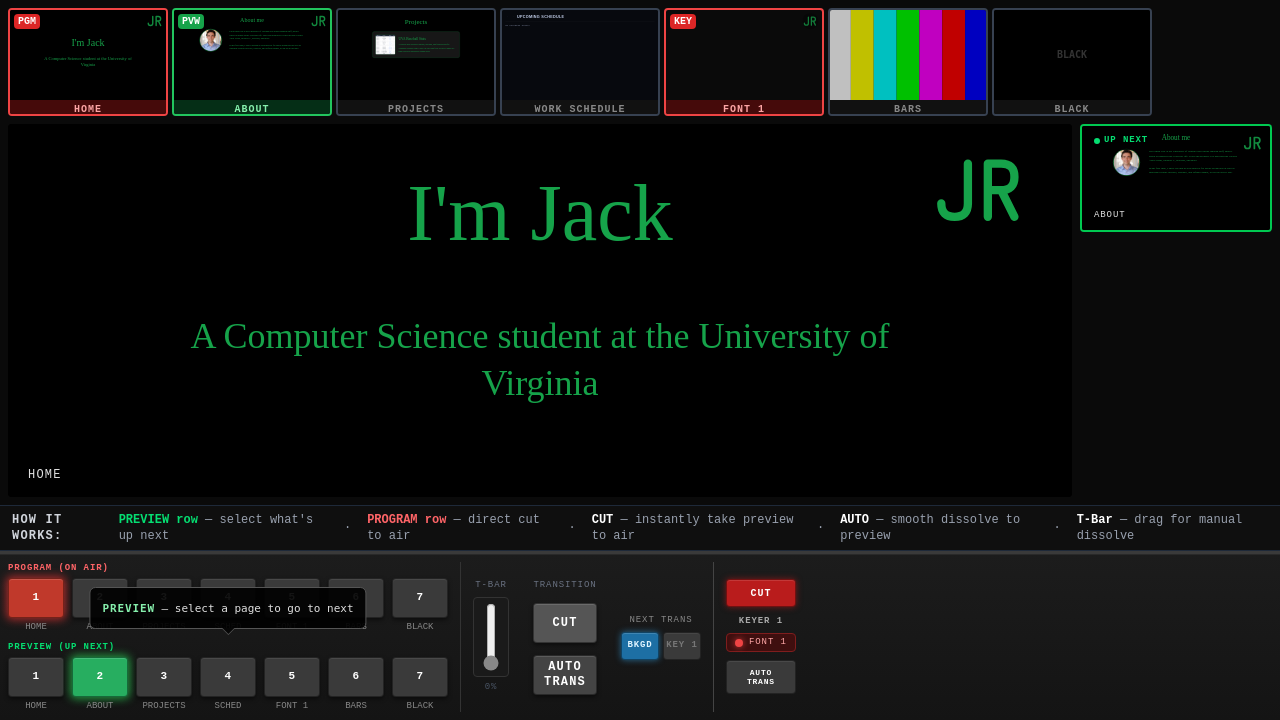
Scenario: Switcher App – CUT transition › pressing CUT with a different preview source changes the program
Click the button "3" at (164, 677), box [136,657,192,697]
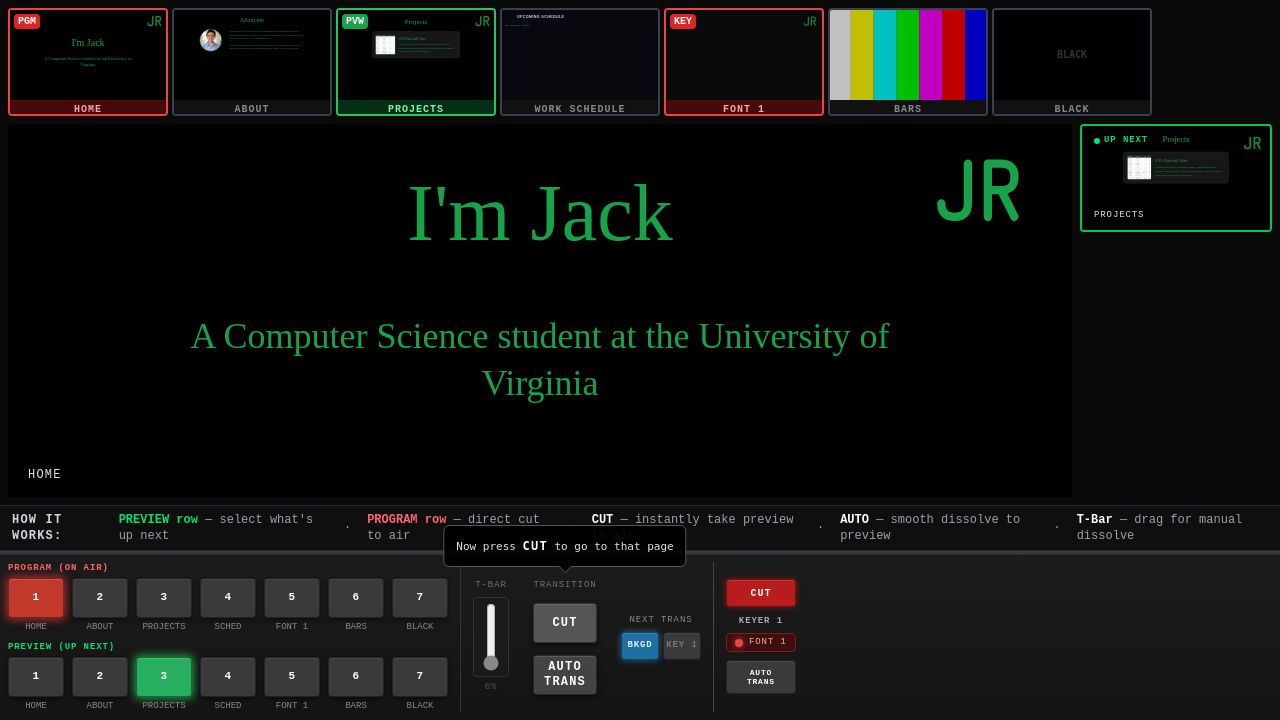
Click the button with test id "cut-transition" at (565, 623), box [533,603,597,643]
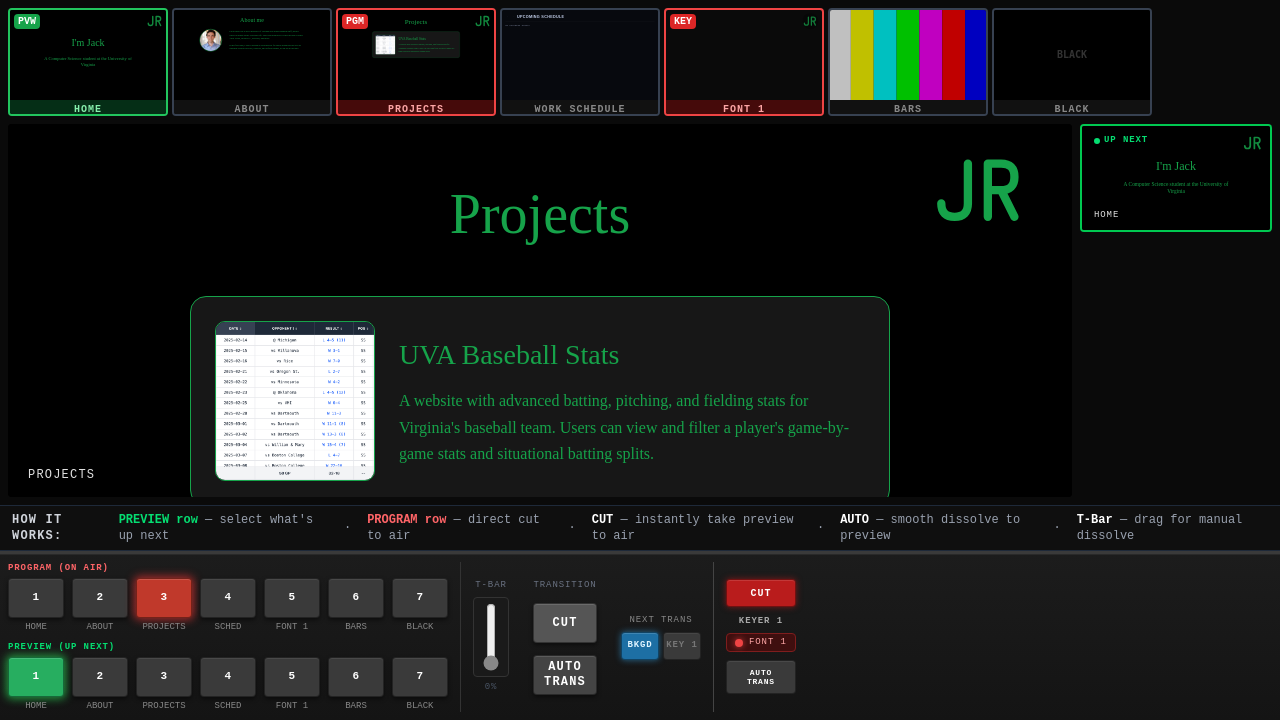
Expected: the text with test id "program-label" reads "PROJECTS", [28,468,95,482]
